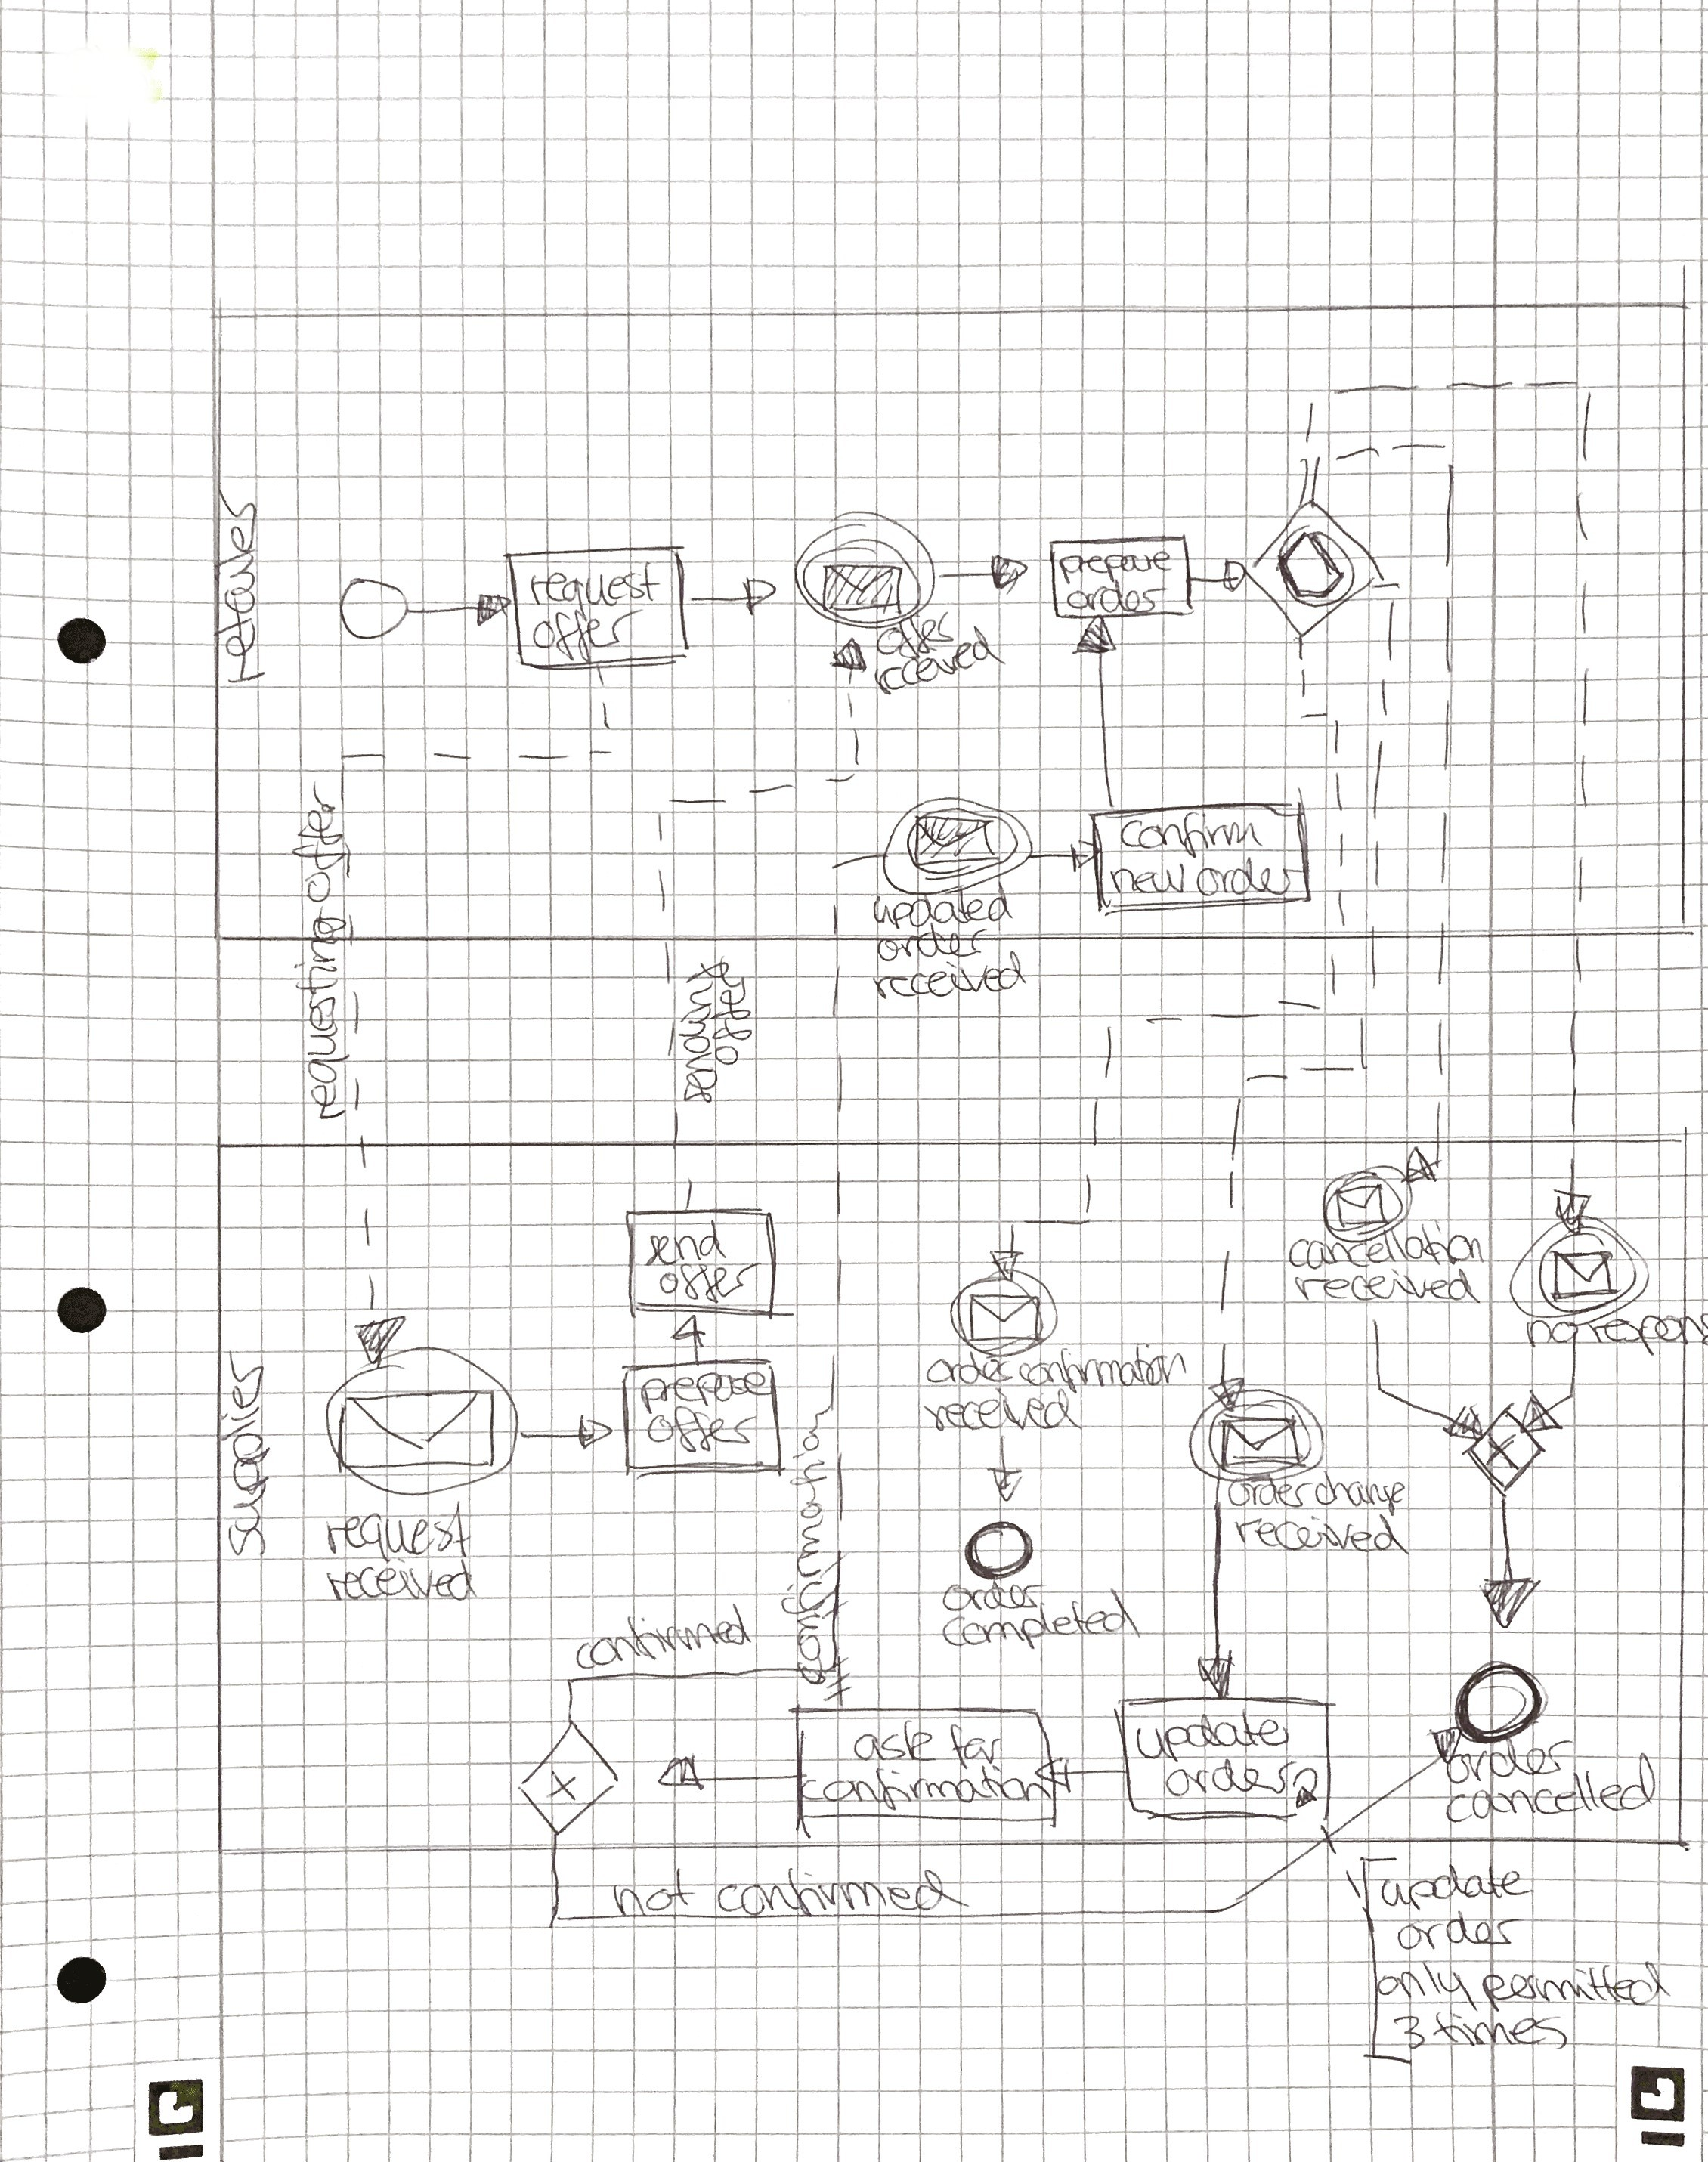3: (1392, 2015, 1429, 2051)
Order: (1438, 1725, 1564, 1786)
ask: (846, 1722, 936, 1774)
cancellation: (1290, 1221, 1483, 1272)
cancelled: (1445, 1760, 1652, 1830)
change: (1311, 1476, 1403, 1509)
completed: (936, 1599, 1134, 1651)
confirm: (1123, 813, 1273, 858)
confirmation: (795, 1771, 1051, 1808), (790, 1409, 823, 1683), (1016, 1349, 1187, 1388)
confirmed: (718, 1869, 962, 1916), (572, 1609, 751, 1669)
for: (941, 1722, 1008, 1767)
new: (1102, 858, 1199, 906)
no: (1522, 1314, 1578, 1346)
not: (609, 1867, 697, 1915)
offer: (534, 611, 655, 653), (293, 786, 337, 898), (874, 604, 964, 656), (653, 1258, 762, 1300), (651, 1411, 750, 1451), (718, 969, 753, 1063)
only: (1381, 1965, 1469, 2004)
order: (1392, 1911, 1520, 1953), (936, 1572, 1044, 1621), (1159, 1764, 1294, 1797), (1062, 583, 1167, 616), (864, 930, 992, 956), (1195, 863, 1295, 897), (925, 1349, 1013, 1386), (1225, 1478, 1313, 1509)
permitted: (1483, 1962, 1666, 2006)
prepare: (630, 1367, 769, 1407), (1057, 546, 1178, 588)
receive: (327, 1565, 470, 1602)
received: (1227, 1504, 1406, 1569), (858, 635, 1015, 688), (871, 953, 1025, 1002), (923, 1388, 1071, 1439), (1292, 1271, 1480, 1307)
request: (316, 1513, 458, 1558), (525, 567, 655, 611)
requesting: (295, 914, 353, 1116)
response: (1587, 1311, 1708, 1348)
retailer: (218, 484, 265, 690)
send: (642, 1216, 728, 1272)
sending: (683, 953, 718, 1106)
supplier: (223, 1358, 269, 1558)
times: (1434, 2011, 1564, 2048)
update: (1136, 1711, 1288, 1760), (1380, 1867, 1529, 1904)
updated: (871, 891, 1008, 935)
